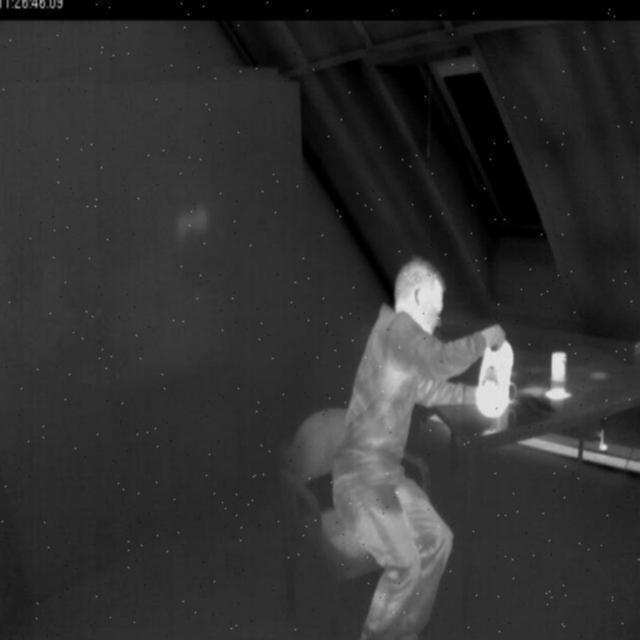person: (311, 250, 507, 640)
